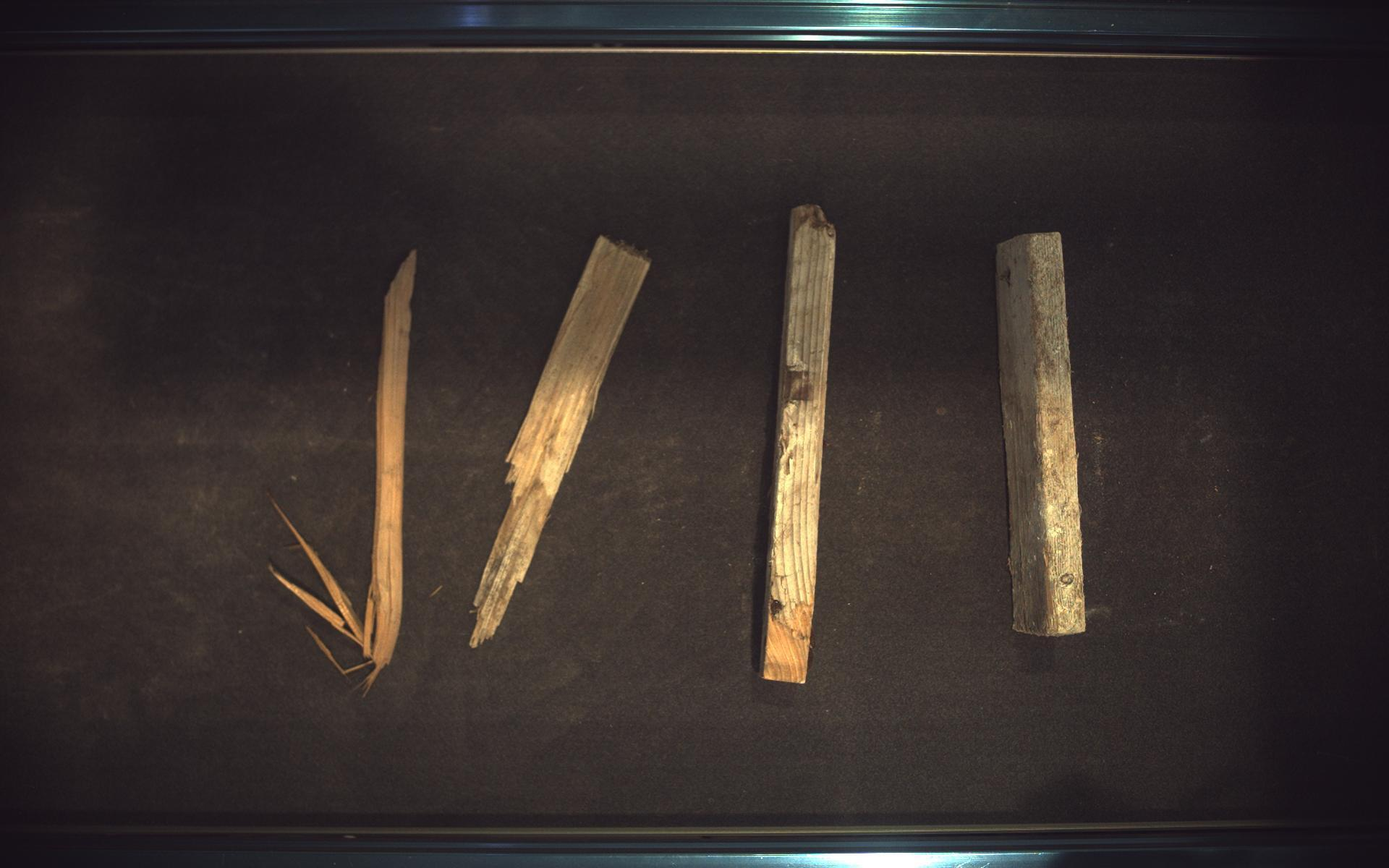wood: (470, 236, 651, 648), (267, 250, 416, 694), (998, 231, 1089, 637), (763, 204, 838, 684)
